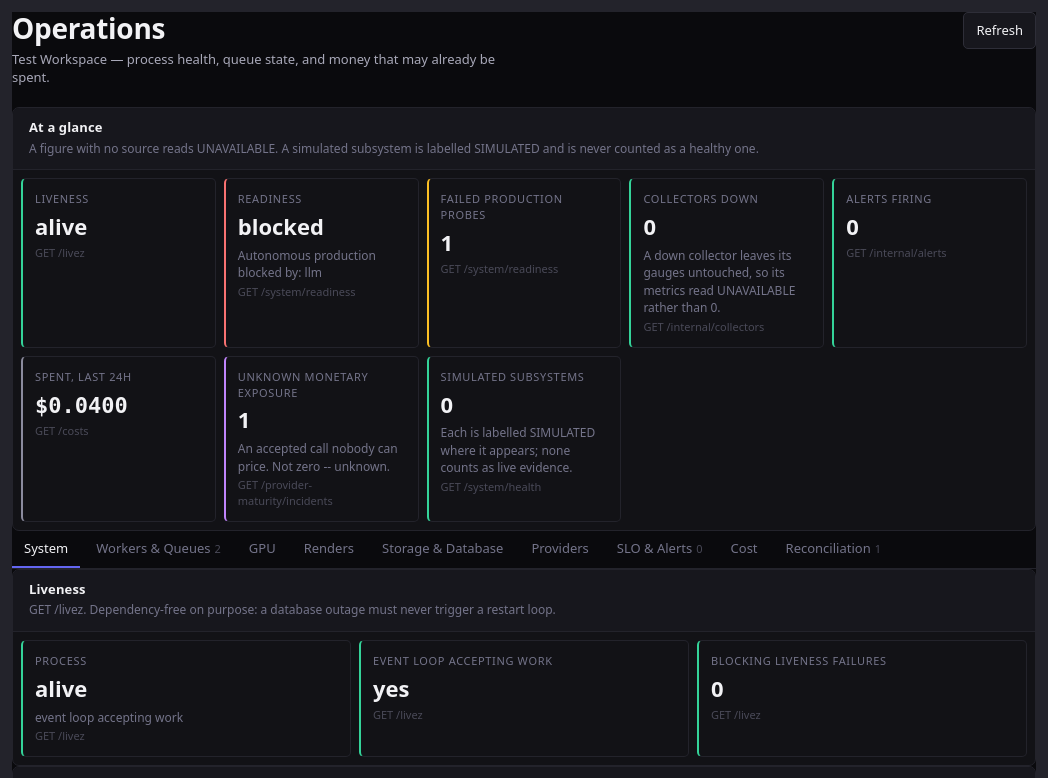
Test: Operations renders when data arrives › shows the budget window on the Cost view
Click the tab "Cost": (744,549) x1=718 y1=531 x2=770 y2=568
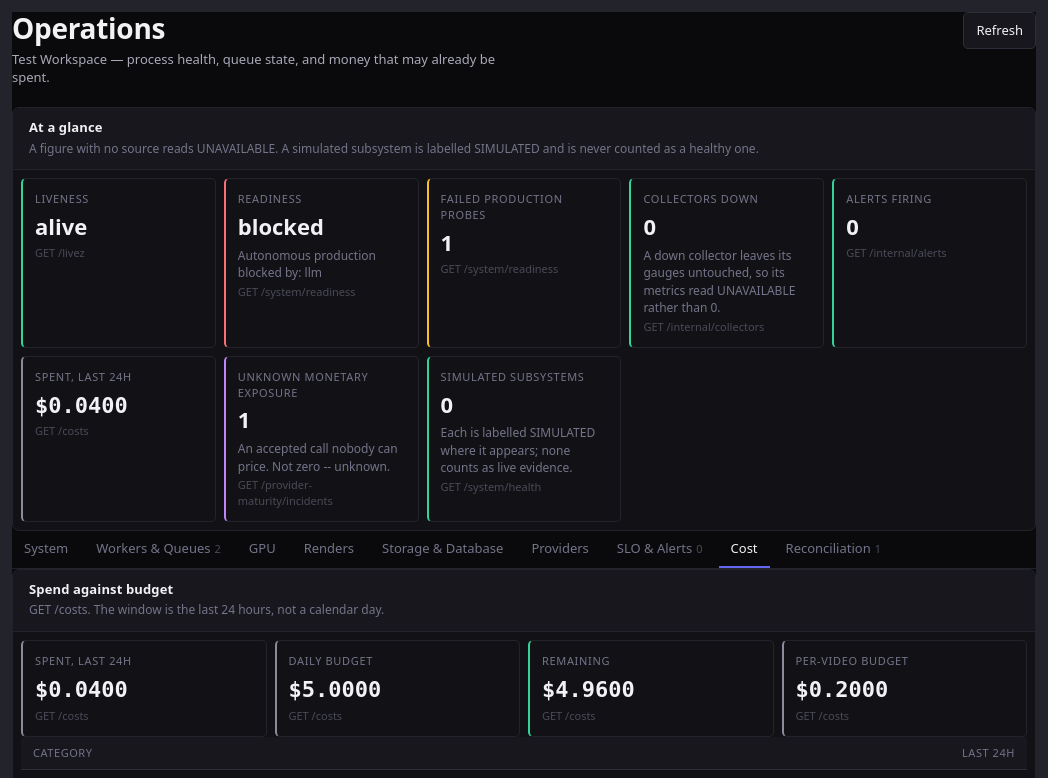
Expected: the heading "Spend against budget" is shown, x1=29 y1=580 x2=173 y2=598
Expected: the text "5.0000" is shown, x1=302 y1=677 x2=381 y2=702
